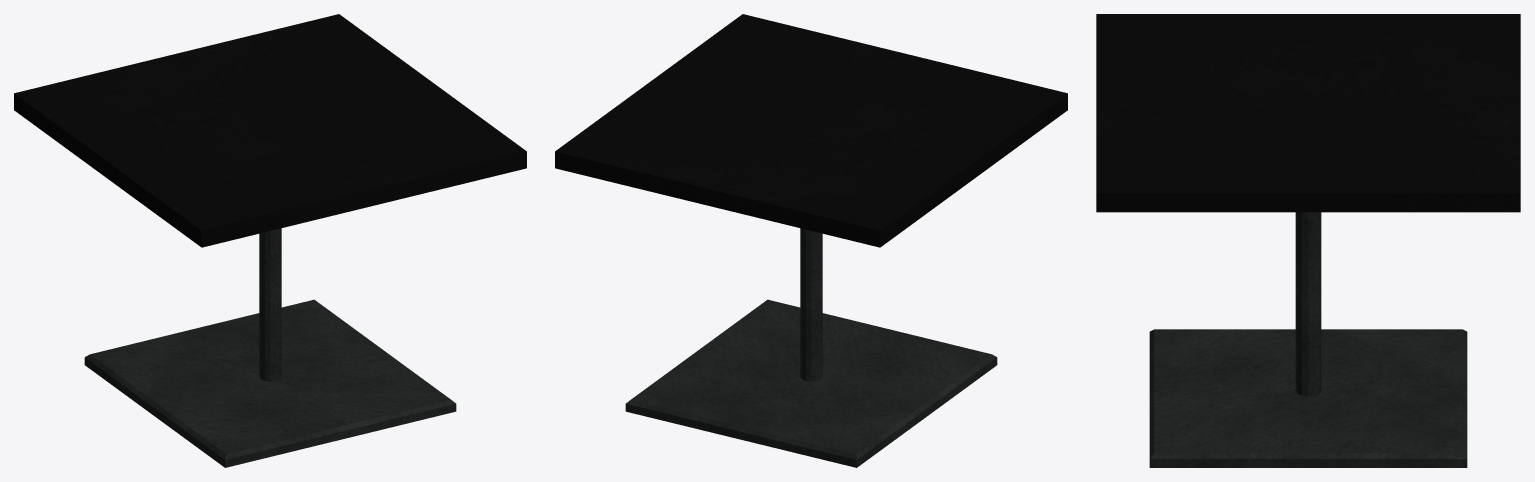
The model's file is Table_Bake.fbx.
3 views of the same model, side by side, from view 1: azimuth 30°, elevation 25°; view 2: azimuth 150°, elevation 25°; view 3: azimuth 270°, elevation 25° (orthographic). The views are drawn at different scales.
Visible parts, largest first — view 1: Table_Bake; view 2: Table_Bake; view 3: Table_Bake.
Boxes of the visible parts, x1,y1,x2,y2 form: Table_Bake: (14, 14, 526, 467); Table_Bake: (555, 14, 1067, 467); Table_Bake: (1096, 14, 1520, 467).
Bounding box in the file's own units: 100 × 100 × 78.21.
Materials: 1 (1 with a texture image).
